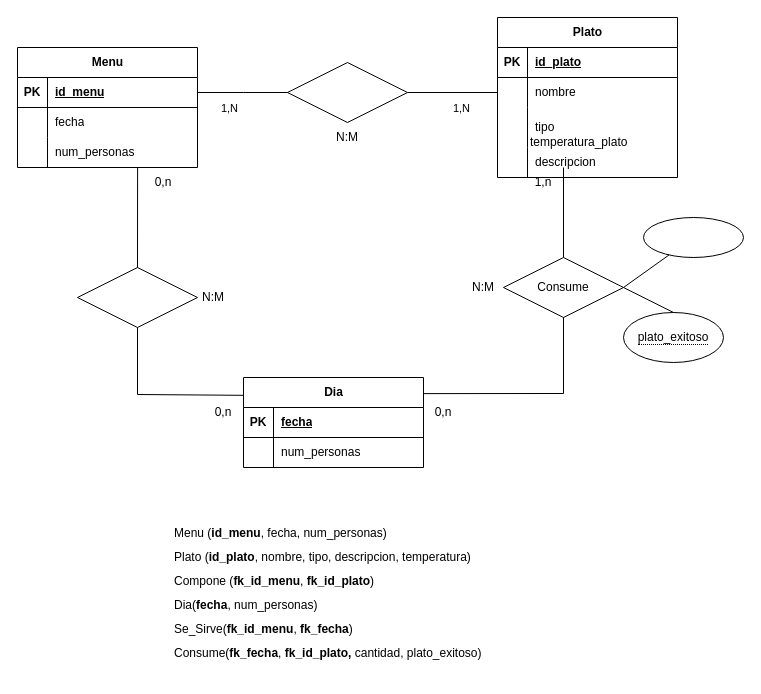
The diagram is 761 pixels wide and 694 high, and some of its shapes have lost their labels. Here are the shapes that lost their labels. From the top down, the centre of each, then its label:
At pixel 347 92: "Compone".
At pixel 693 237: "cantidad".
At pixel 137 297: "Se_Sirve".
